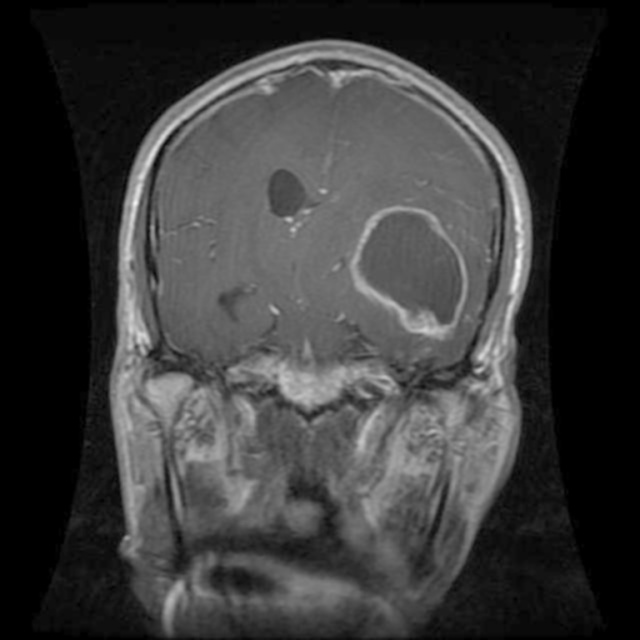pituitary tumor: (351, 202, 470, 338)
